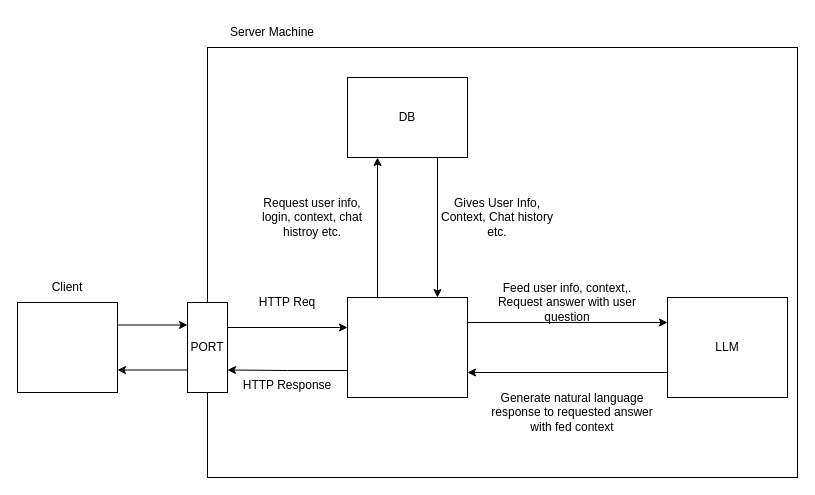
This 815x495 diagram has some shape labels left out. The centre of each missing label's shape, as x and y in pixels:
"AI Customer Service Chatbot Web App" belongs at [67,347].
"Web Server" belongs at [407,347].
